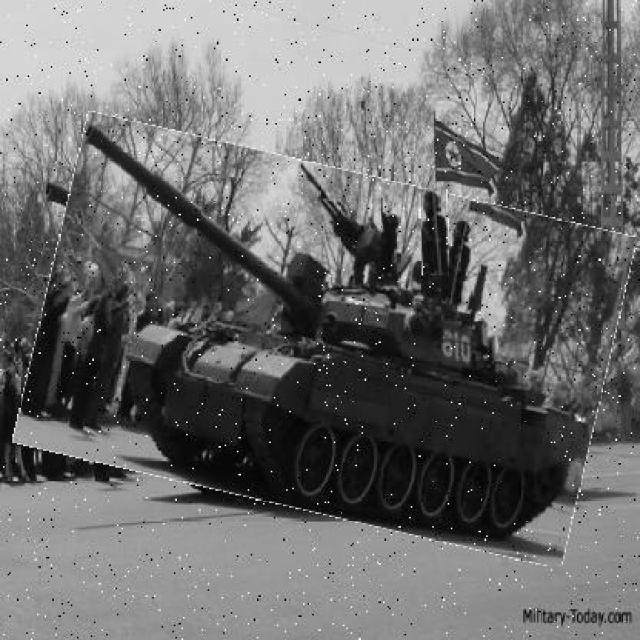Person: (341, 184, 383, 280), (421, 189, 450, 278)
Tank: (29, 141, 623, 539)
